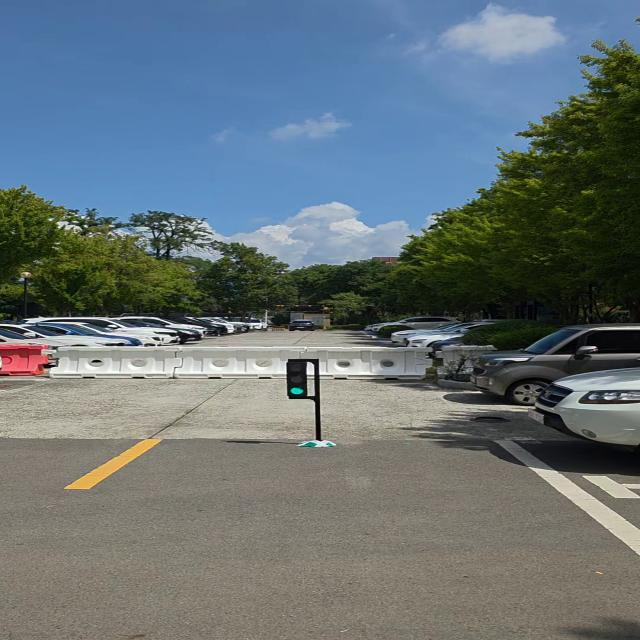green: (283, 358, 311, 399)
